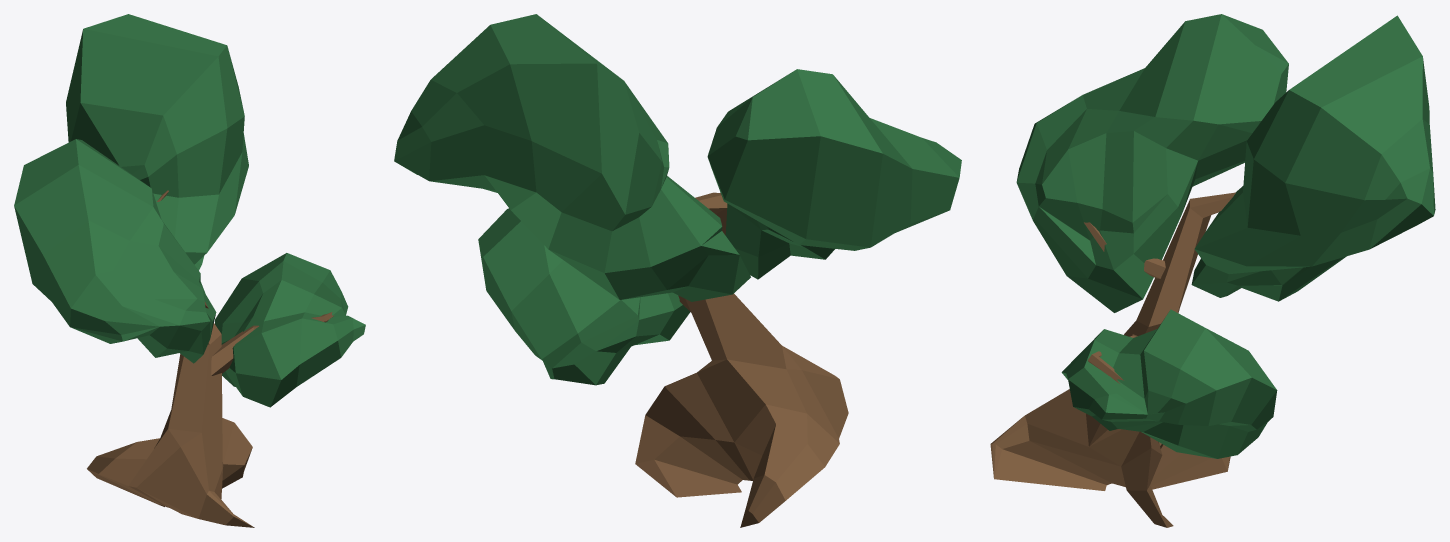
The model's file is Tree_Cliff3.fbx.
3 views of the same model, side by side, from view 1: azimuth 30°, elevation 25°; view 2: azimuth 150°, elevation 25°; view 3: azimuth 270°, elevation 25° (orthographic). The views are drawn at different scales.
Visible parts, largest first — view 1: Tree.Cliffside.3; view 2: Tree.Cliffside.3; view 3: Tree.Cliffside.3.
Part boxes in pixels (x1,y1,x2,y2): Tree.Cliffside.3: (14,14,365,527); Tree.Cliffside.3: (394,14,961,527); Tree.Cliffside.3: (990,14,1435,527).
Size of the model in its own units: 3190 by 3980 by 3263.
